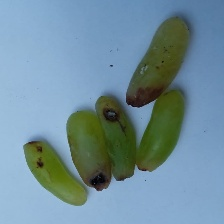grapes: (8, 23, 175, 224)
